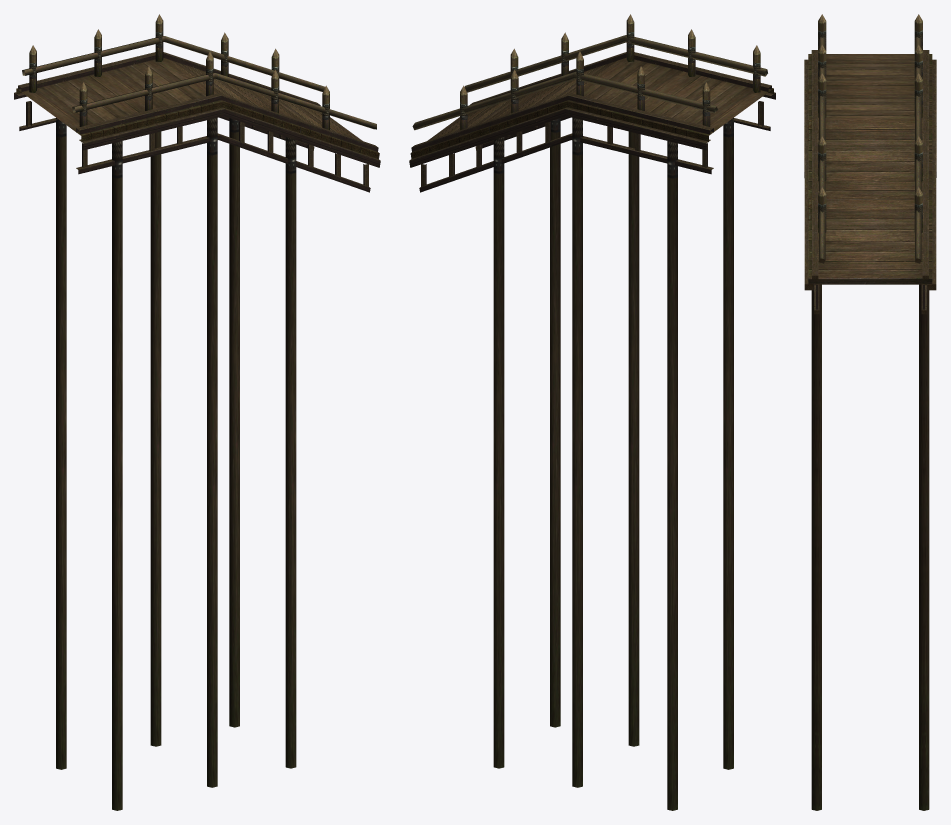
The model's file is yw_juxianzhuang_muqiao03.FBX.
The picture shows the model from 3 angles, left to right: view 1: azimuth 30°, elevation 25°; view 2: azimuth 150°, elevation 25°; view 3: azimuth 270°, elevation 25°; orthographic projection. The views are drawn at different scales.
Visible parts, largest first — view 1: yw_juxianzhuang_muqiao03; view 2: yw_juxianzhuang_muqiao03; view 3: yw_juxianzhuang_muqiao03.
Boxes of the visible parts, bbox=[...] form: yw_juxianzhuang_muqiao03: bbox=[14, 14, 380, 810]; yw_juxianzhuang_muqiao03: bbox=[409, 14, 775, 810]; yw_juxianzhuang_muqiao03: bbox=[804, 14, 936, 810].
Size of the model in its own units: 1556 by 3603 by 618.
1 material, 1 textured.
